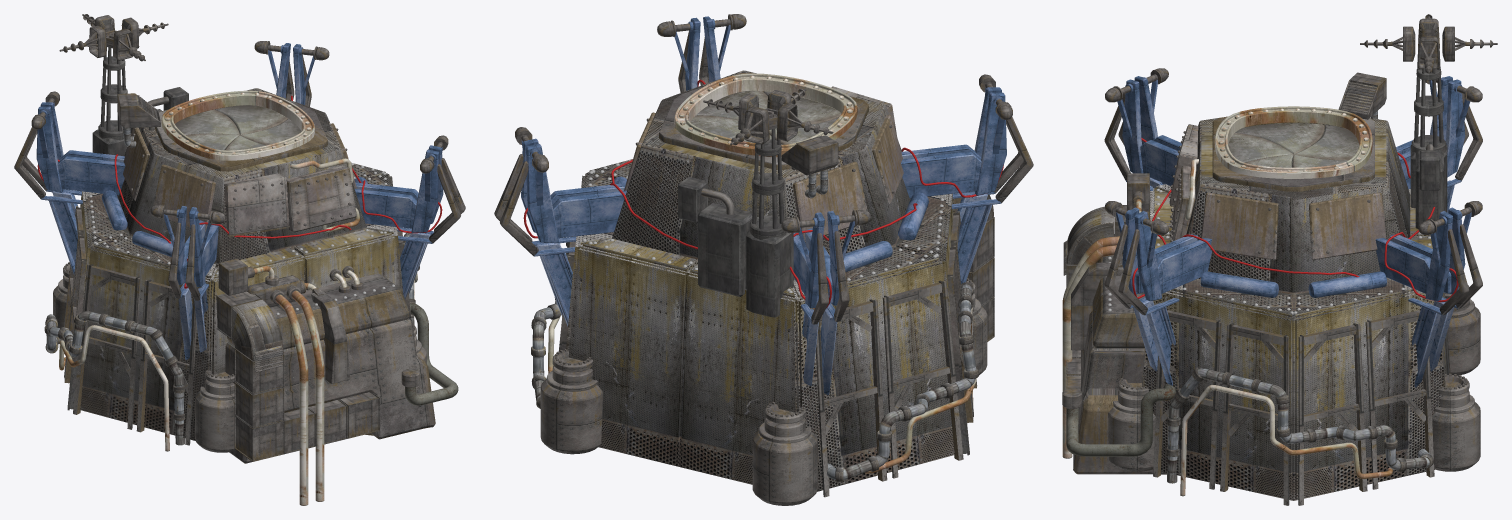
File: static.fbx
3 renders of one model, left to right at view 1: azimuth 30°, elevation 25°; view 2: azimuth 150°, elevation 25°; view 3: azimuth 270°, elevation 25°, orthographic. The views are drawn at different scales.
Parts seen in each view (by area): view 1: Boole, Boole_2, Extrude_12, Sweep_32, Cube_10, Cube_29, Cube_30, Cube_1_7, Cylinder_9_3, Cube_18_2, Sweep_7, Cube_1_5_2 (+38 smaller); view 2: Boole, Extrude_12, Cylinder_9_3, Cube_10, Sweep_32, Cube_1_3_2, Cube_1_7, Sweep_7, Cube, Cube_16_2, Cube_20, Cube_1_5_2 (+28 smaller); view 3: Boole, Extrude_12, Cube_10, Boole_2, Cylinder_9_3, Sweep_32, Cube_1_7, Sweep_7, Cube_1_5_2, Extrude_2_3, Cylinder_14_2, Cube_14_2 (+37 smaller).
Part boxes in pixels (x1,y1,x2,y2): Boole: (78,162,403,440); Boole_2: (225,273,435,463); Extrude_12: (117,88,366,267); Sweep_32: (161,90,314,160); Cube_10: (123,123,356,232); Cube_29: (286,165,356,232); Cube_30: (224,173,289,236); Cube_1_7: (64,235,140,429); Cylinder_9_3: (53,286,426,452); Cube_18_2: (57,150,125,195); Sweep_7: (46,233,414,445); Cube_1_5_2: (64,206,411,445); Boole: (566,159,957,491); Extrude_12: (612,70,910,280); Cylinder_9_3: (540,306,987,505); Cube_10: (624,112,903,242); Sweep_32: (674,73,857,157); Cube_1_3_2: (698,203,752,296); Cube_1_7: (882,245,973,478); Sweep_7: (532,247,976,479); Cube: (746,231,793,317); Cube_16_2: (901,144,981,198); Cube_20: (550,183,626,238); Cube_1_5_2: (558,211,977,497); Boole: (1142,184,1450,500); Extrude_12: (1186,118,1410,297); Cube_10: (1201,192,1386,260); Boole_2: (1073,234,1166,474); Cylinder_9_3: (1108,306,1480,471); Sweep_32: (1215,106,1372,178); Cube_1_7: (1220,323,1367,505); Sweep_7: (1167,368,1430,483); Cube_1_5_2: (1153,308,1434,489); Extrude_2_3: (1212,116,1374,191); Cylinder_14_2: (1200,271,1386,297); Cube_14_2: (1136,234,1211,293).
Size of the model in its own units: 778 by 780 by 761.
11 materials, 11 textured.
